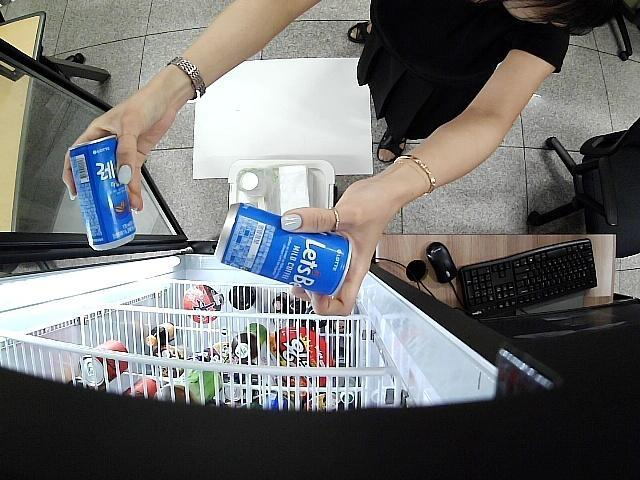15_letsbe: (214, 204, 352, 295), (66, 134, 136, 250)
